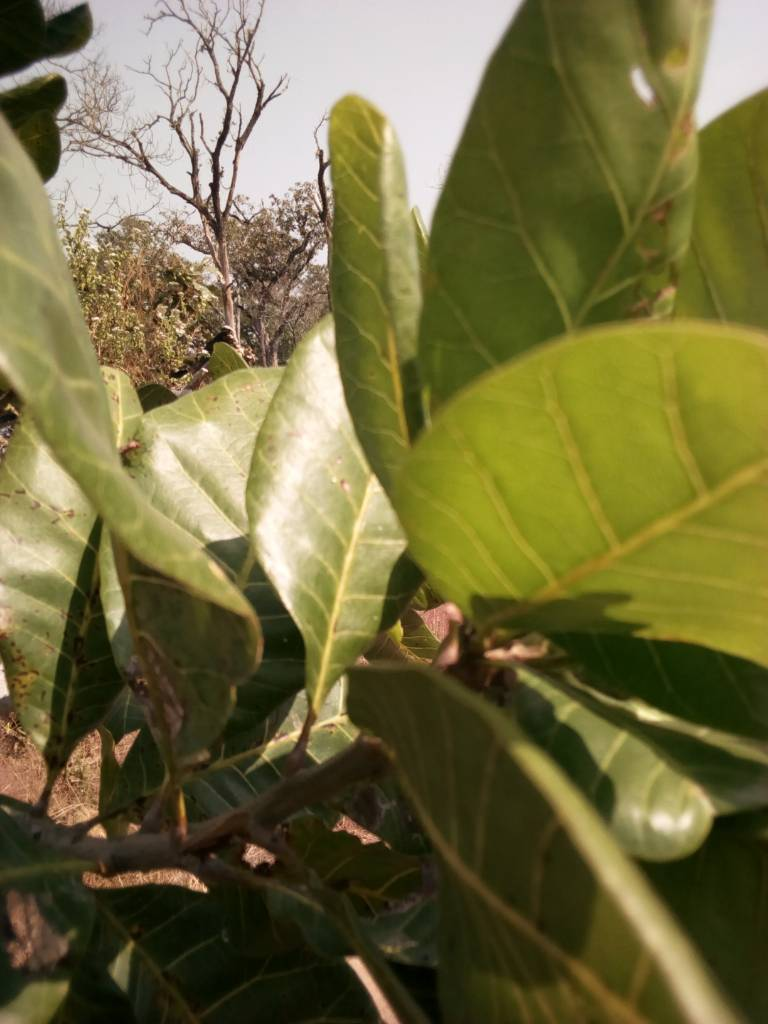Anthracnose: (2, 489, 257, 800)
